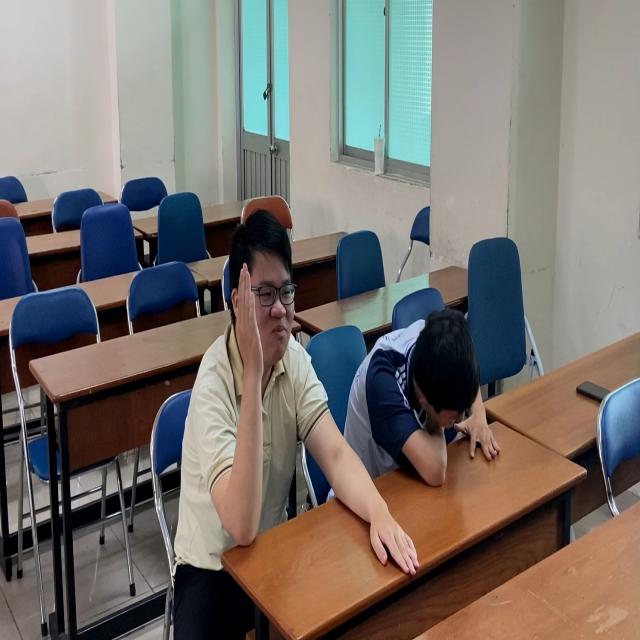raise_hand: (203, 196, 320, 549)
